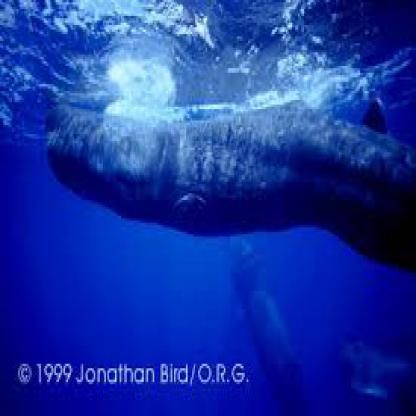sperm_whale: (52, 91, 414, 273)
